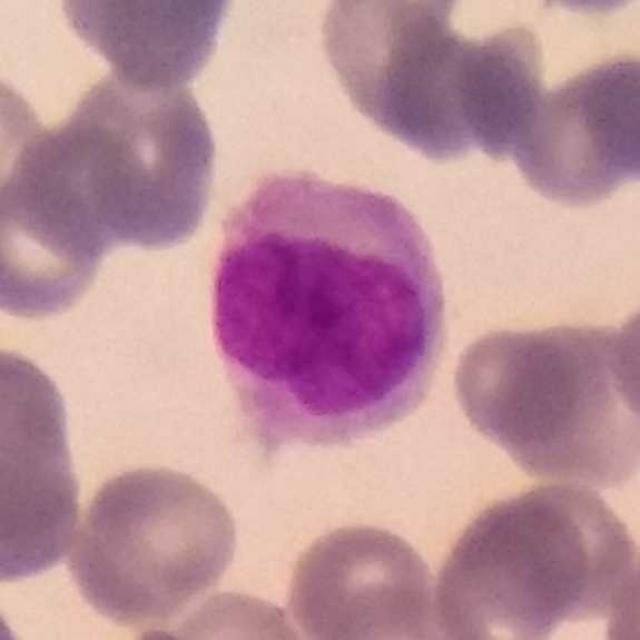Monocyte: (205, 161, 463, 460)
RBC: (447, 314, 640, 491), (63, 457, 245, 629), (67, 58, 225, 255), (426, 483, 594, 640), (312, 0, 469, 147), (505, 45, 640, 212), (0, 342, 89, 589), (11, 116, 150, 272), (282, 515, 441, 640), (52, 0, 245, 92), (0, 166, 111, 324), (440, 18, 552, 160), (299, 573, 491, 639), (127, 584, 320, 640), (0, 341, 75, 475), (0, 62, 53, 224), (603, 282, 640, 446), (597, 544, 640, 638), (525, 0, 639, 20)
